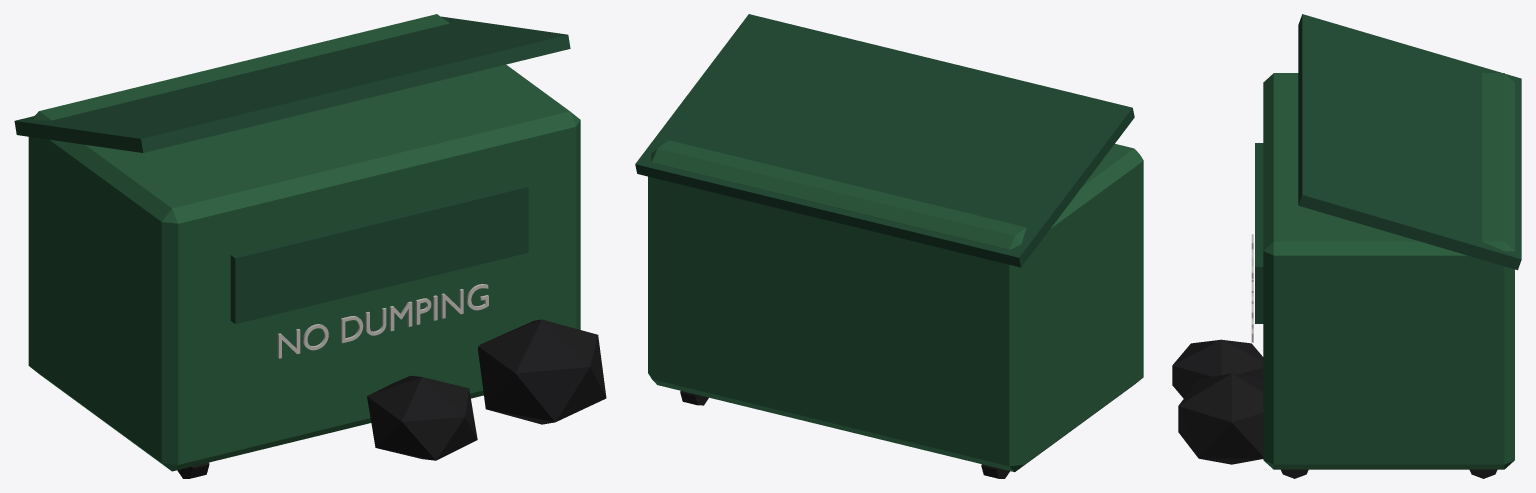
The model's file is dumpster.glb.
3 views of the same model, side by side, from view 1: azimuth 30°, elevation 25°; view 2: azimuth 150°, elevation 25°; view 3: azimuth 270°, elevation 25° (orthographic). The views are drawn at different scales.
Visible parts, largest first — view 1: dumpster; view 2: dumpster; view 3: dumpster.
Boxes of the visible parts, left/top/right/bottom form: dumpster: left=14, top=14, right=606, bottom=478; dumpster: left=635, top=14, right=1143, bottom=478; dumpster: left=1172, top=14, right=1521, bottom=478.
Size of what is drawn, in the model's own units: 2.04 by 1.58 by 1.67.
